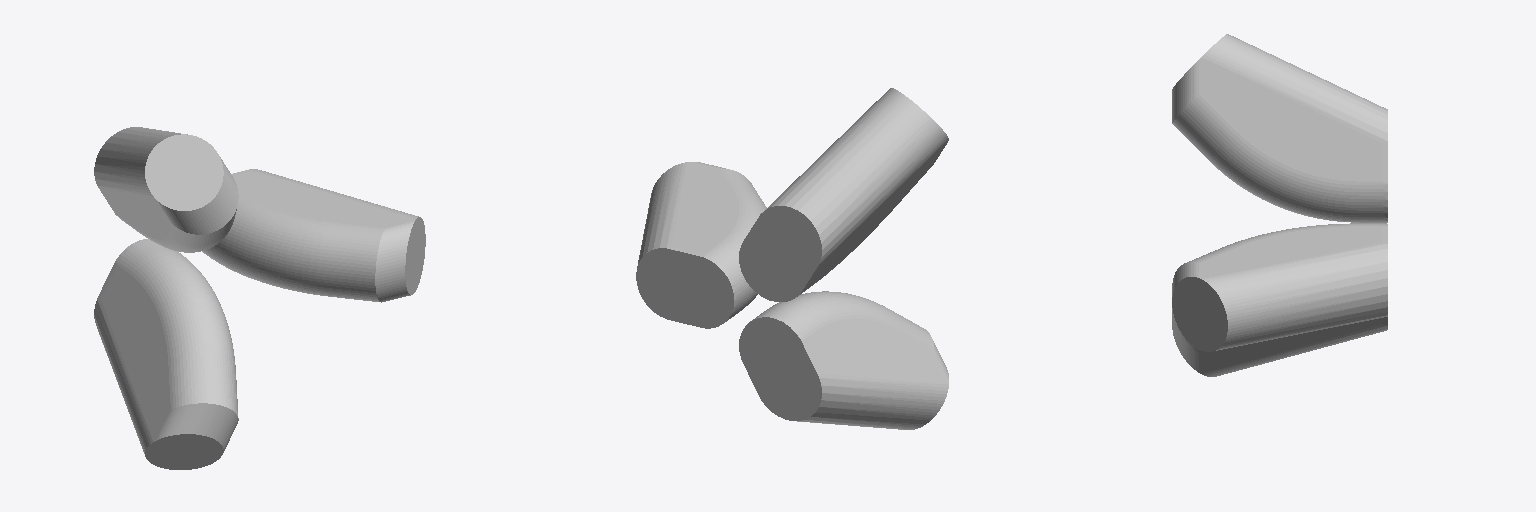
The model's file is hull-body.obj.
3 views of the same model, side by side, from view 1: azimuth 30°, elevation 25°; view 2: azimuth 150°, elevation 25°; view 3: azimuth 270°, elevation 25° (orthographic).
Bounding box in the file's own units: 288 × 321 × 187.